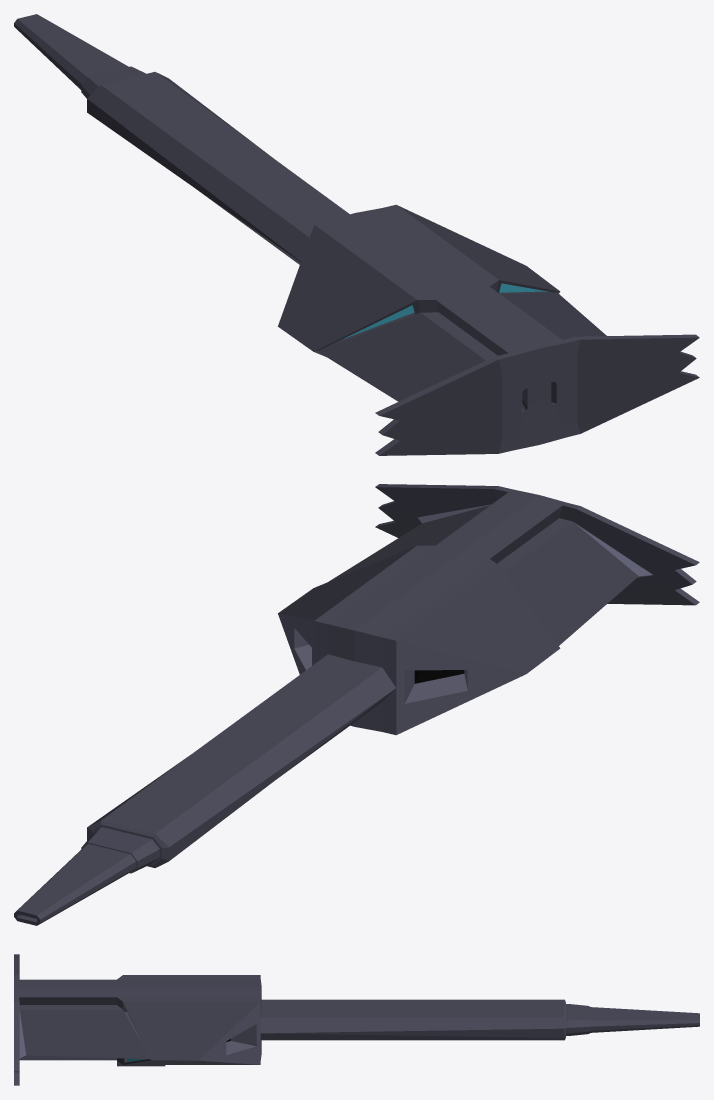
Rendered from RailGun_JaeForzsFox.fbx.
3 views of the same model, one above another, from view 1: azimuth 30°, elevation 25°; view 2: azimuth 150°, elevation 25°; view 3: azimuth 270°, elevation 25° (orthographic). The views are drawn at different scales.
Parts seen in each view (by area): view 1: Куб.003, Куб.001; view 2: Куб.003, Куб.001; view 3: Куб.003, Куб.001.
Part boxes in pixels (<box>): Куб.003: <box>278,204,699,455</box>; Куб.001: <box>14,14,349,264</box>; Куб.003: <box>278,484,699,735</box>; Куб.001: <box>14,654,395,925</box>; Куб.003: <box>14,954,261,1085</box>; Куб.001: <box>260,999,699,1040</box>.
Size of the model in its own units: 134 by 405 by 1119.
